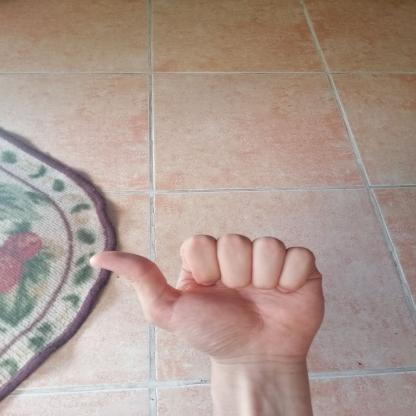DAD: (75, 222, 340, 376)
